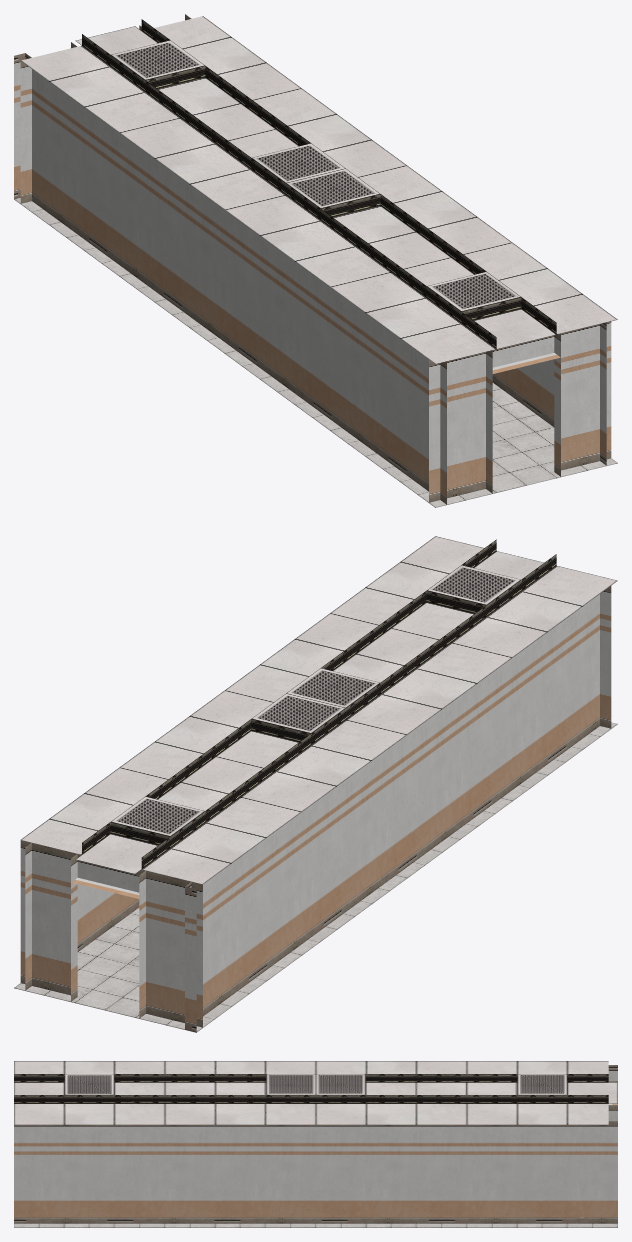
File: RZ_room2.obj
3 views of the same model, one above another, from view 1: azimuth 30°, elevation 25°; view 2: azimuth 150°, elevation 25°; view 3: azimuth 270°, elevation 25° (orthographic). The views are drawn at different scales.
Visible parts, largest first — view 1: OZ_room2.001; view 2: OZ_room2.001; view 3: OZ_room2.001.
Boxes of the visible parts, x1,y1,x2,y2 form: OZ_room2.001: [14, 14, 617, 507]; OZ_room2.001: [14, 536, 617, 1032]; OZ_room2.001: [14, 1061, 617, 1227].
Bounding box in the file's own units: 5.12 × 4.17 × 20.48.
